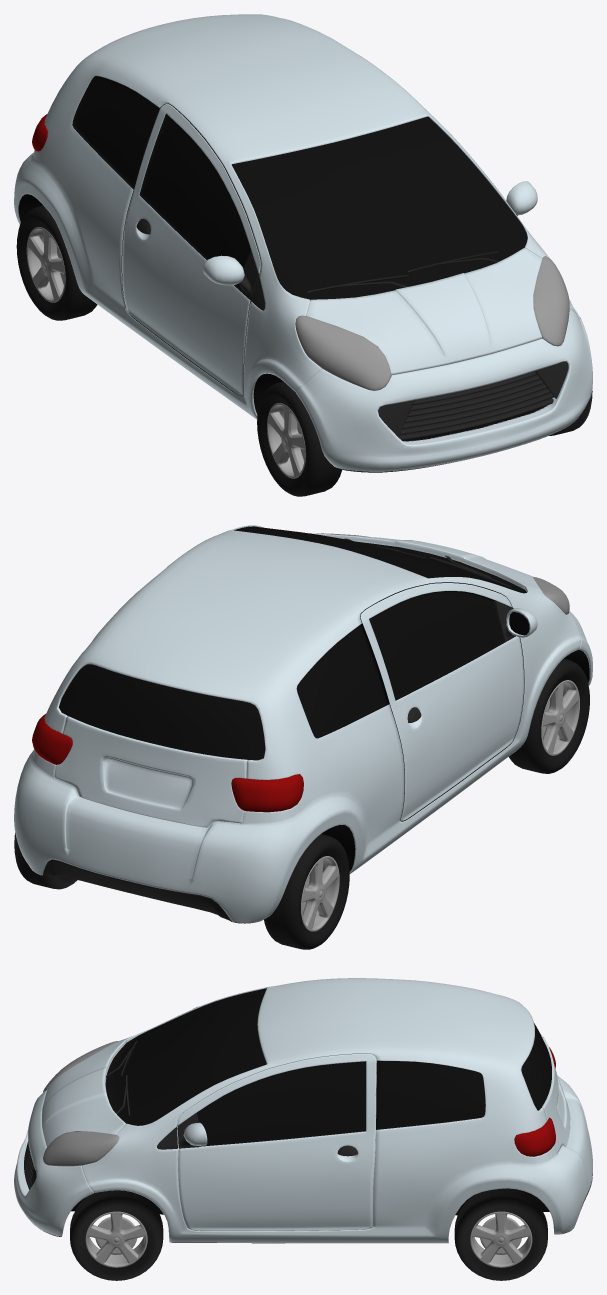
The model's file is AutoB_modelo.fbx.
3 views of the same model, one above another, from view 1: azimuth 30°, elevation 25°; view 2: azimuth 150°, elevation 25°; view 3: azimuth 270°, elevation 25° (orthographic). The views are drawn at different scales.
Visible parts, largest first — view 1: Body001, grid001, headlights_glass001, Tire007, Tire008, Disk001, Disk007, screen_wiper001, side_mirror001; view 2: Body001, Tire008, taillight001, Tire007, diffuser001, Disk007, Disk001, Tire005, headlights_glass001; view 3: Body001, Tire005, Tire006, headlights_glass001, Disk006, Disk005, taillight001, side_mirror001, brake001, brake005.
Part boxes in pixels (box(x1,y1,x2,y2)): Body001: box(14, 14, 592, 472); grid001: box(378, 361, 568, 440); headlights_glass001: box(295, 256, 569, 390); Tire007: box(257, 381, 341, 496); Tire008: box(16, 205, 97, 320); Disk001: box(267, 403, 305, 478); Disk007: box(26, 227, 65, 302); screen_wiper001: box(307, 251, 500, 292); side_mirror001: box(238, 214, 517, 310); Body001: box(14, 525, 592, 923); Tire008: box(264, 834, 349, 949); taillight001: box(32, 714, 303, 812); Tire007: box(509, 658, 589, 773); diffuser001: box(42, 859, 232, 921); Disk007: box(301, 856, 339, 931); Disk001: box(541, 680, 579, 755); Tire005: box(14, 833, 77, 889); headlights_glass001: box(316, 533, 569, 614); Body001: box(14, 978, 592, 1243); Tire005: box(454, 1188, 547, 1280); Tire006: box(70, 1190, 163, 1280); headlights_glass001: box(43, 1041, 119, 1166); Disk006: box(470, 1211, 532, 1267); Disk005: box(85, 1211, 147, 1267); taillight001: box(514, 1047, 555, 1156); side_mirror001: box(157, 1112, 199, 1149); brake001: box(480, 1217, 521, 1254); brake005: box(95, 1217, 137, 1254).
Size of the model in its own units: 11.13 by 8.79 by 21.25.
8 materials, 1 textured.
